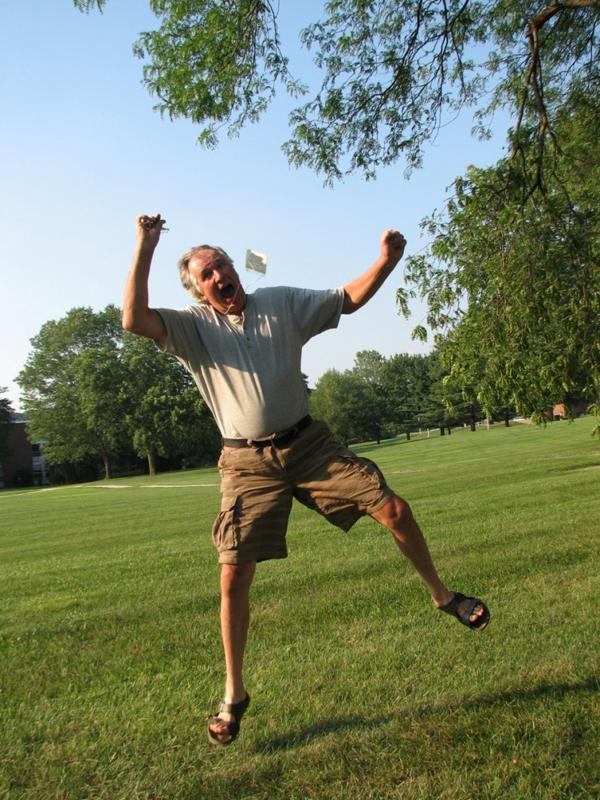person: (123, 207, 493, 745)
